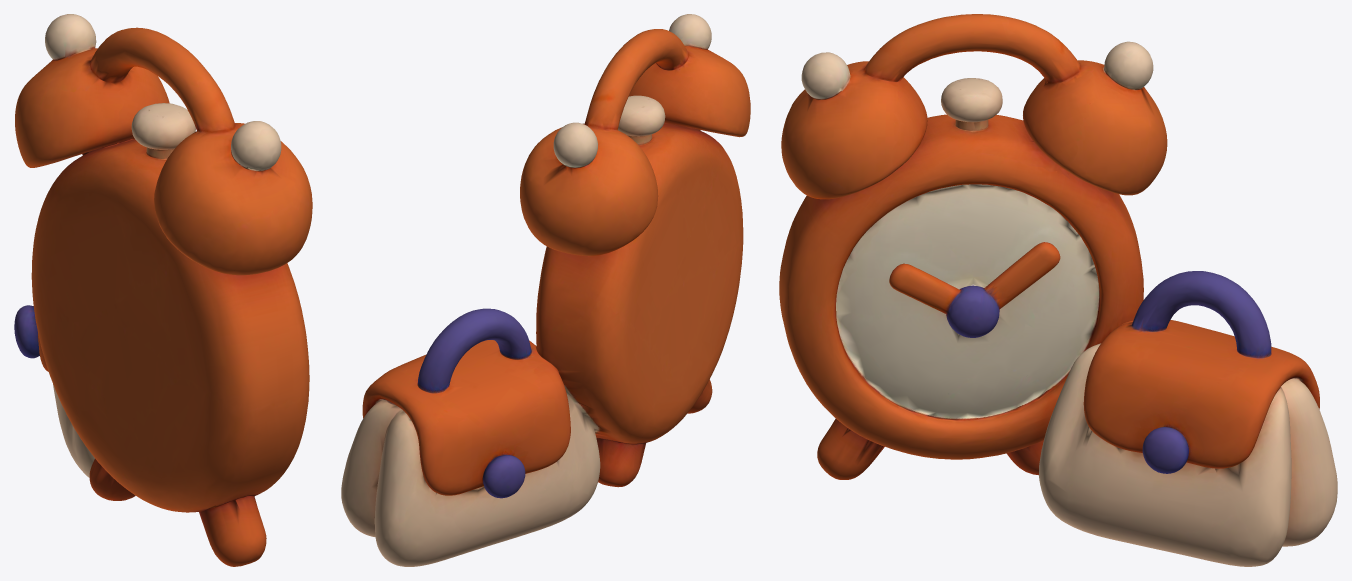
Rendered from urgenza-presto.glb.
The picture shows the model from 3 angles, left to right: view 1: azimuth 30°, elevation 25°; view 2: azimuth 150°, elevation 25°; view 3: azimuth 270°, elevation 25°; orthographic projection. The views are drawn at different scales.
Visible parts, largest first — view 1: tripo_node_22381420-2954-411e-b06e-926eeb0ebb06; view 2: tripo_node_22381420-2954-411e-b06e-926eeb0ebb06; view 3: tripo_node_22381420-2954-411e-b06e-926eeb0ebb06.
Boxes of the visible parts, x1,y1,x2,y2 form: tripo_node_22381420-2954-411e-b06e-926eeb0ebb06: (14,14,312,566); tripo_node_22381420-2954-411e-b06e-926eeb0ebb06: (341,14,750,566); tripo_node_22381420-2954-411e-b06e-926eeb0ebb06: (779,14,1337,566).
Size of the model in its own units: 0.5027 by 0.938 by 0.9797.
1 material, 1 textured.
